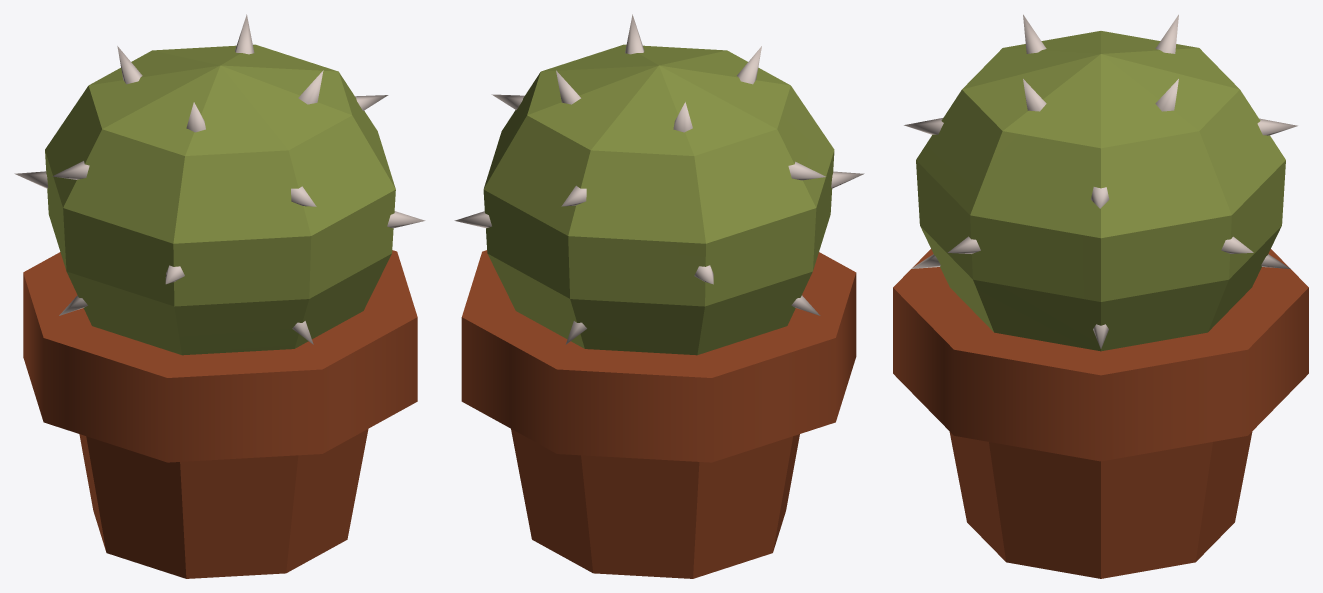
The model's file is 26_prop_cactus.FBX.
3 views of the same model, side by side, from view 1: azimuth 30°, elevation 25°; view 2: azimuth 150°, elevation 25°; view 3: azimuth 270°, elevation 25° (orthographic).
Parts seen in each view (by area): view 1: prop_cactus; view 2: prop_cactus; view 3: prop_cactus.
Boxes of the visible parts, left/top/right/bottom form: prop_cactus: left=14, top=14, right=425, bottom=578; prop_cactus: left=454, top=14, right=864, bottom=578; prop_cactus: left=893, top=14, right=1308, bottom=578.
Bounding box in the file's own units: 14.19 × 17.92 × 14.19.
